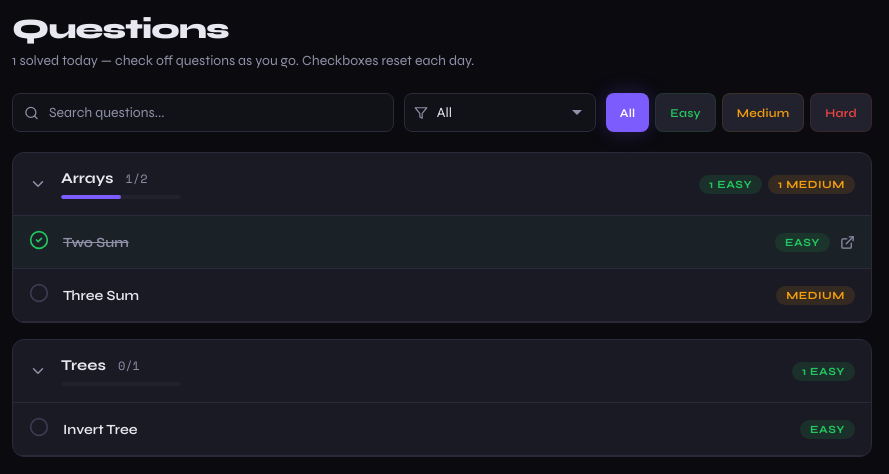
QuestionsPage › shows empty state for no matches
In the field with placeholder "Search questions...": (203,112) x1=12 y1=93 x2=394 y2=132, type "zzz"
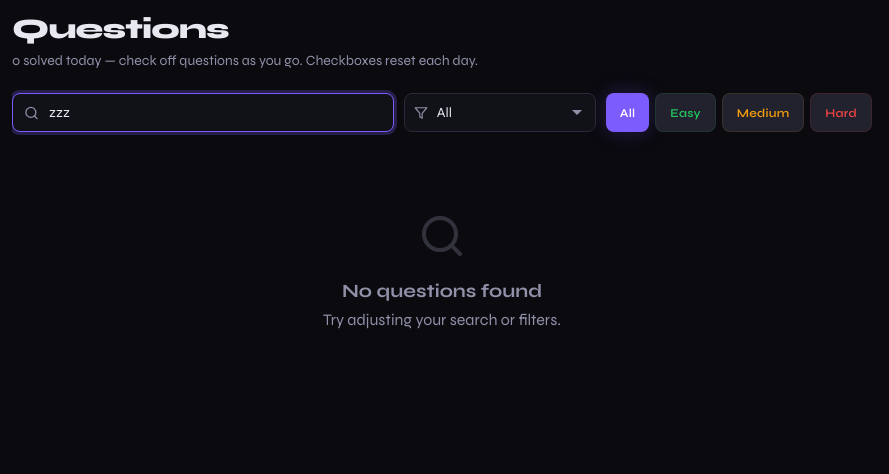
Check: the heading "No questions found" is shown, box x1=342 y1=280 x2=542 y2=302
